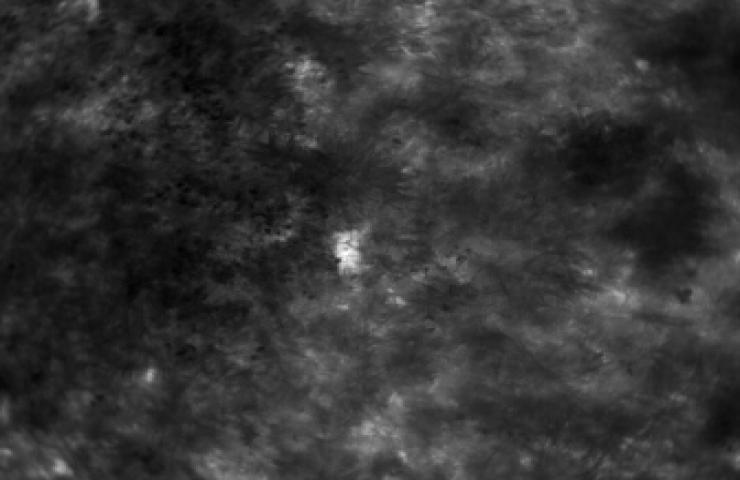landmines: (332, 226, 369, 271)
